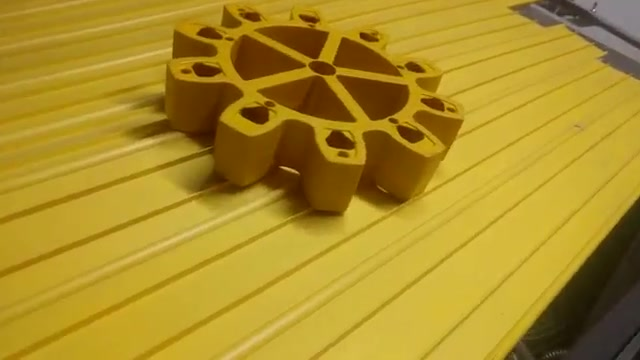gear: (162, 1, 462, 252)
